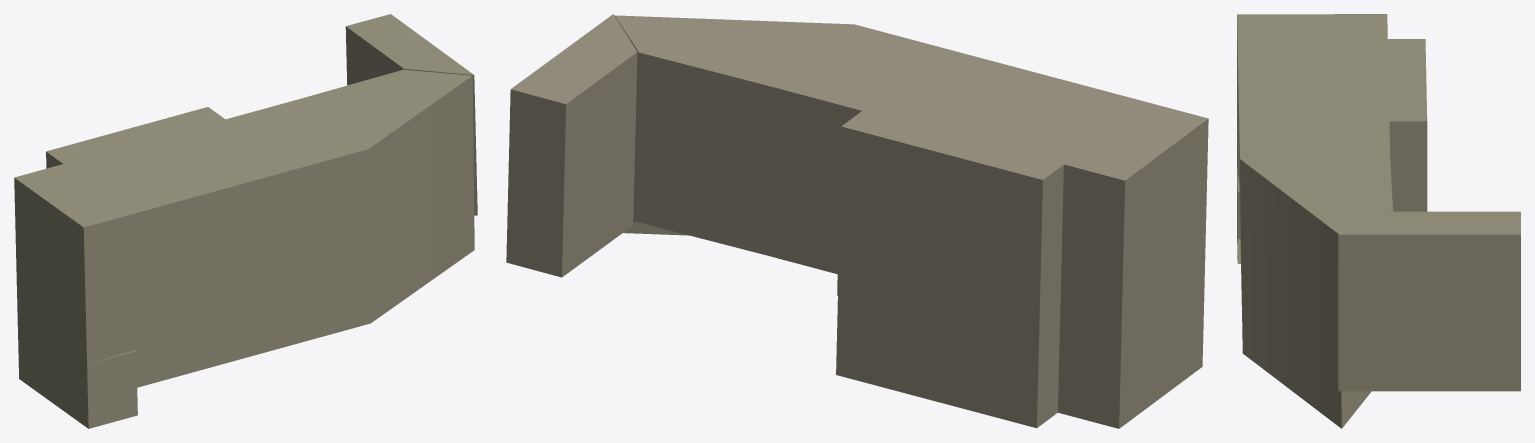
The model's file is SiteALarga1.fbx.
The picture shows the model from 3 angles, left to right: view 1: azimuth 30°, elevation 25°; view 2: azimuth 150°, elevation 25°; view 3: azimuth 270°, elevation 25°; orthographic projection. The views are drawn at different scales.
Visible parts, largest first — view 1: polySurface54, polySurface51; view 2: polySurface54, polySurface51; view 3: polySurface54, polySurface51.
Boxes of the visible parts, box(x1,y1,x2,y2) form: polySurface54: box(14, 69, 474, 428); polySurface51: box(345, 14, 477, 215); polySurface54: box(614, 15, 1208, 428); polySurface51: box(506, 14, 637, 277); polySurface54: box(1237, 14, 1427, 428); polySurface51: box(1338, 211, 1520, 391).
Bounding box in the file's own units: 120 × 55.9 × 61.19.
